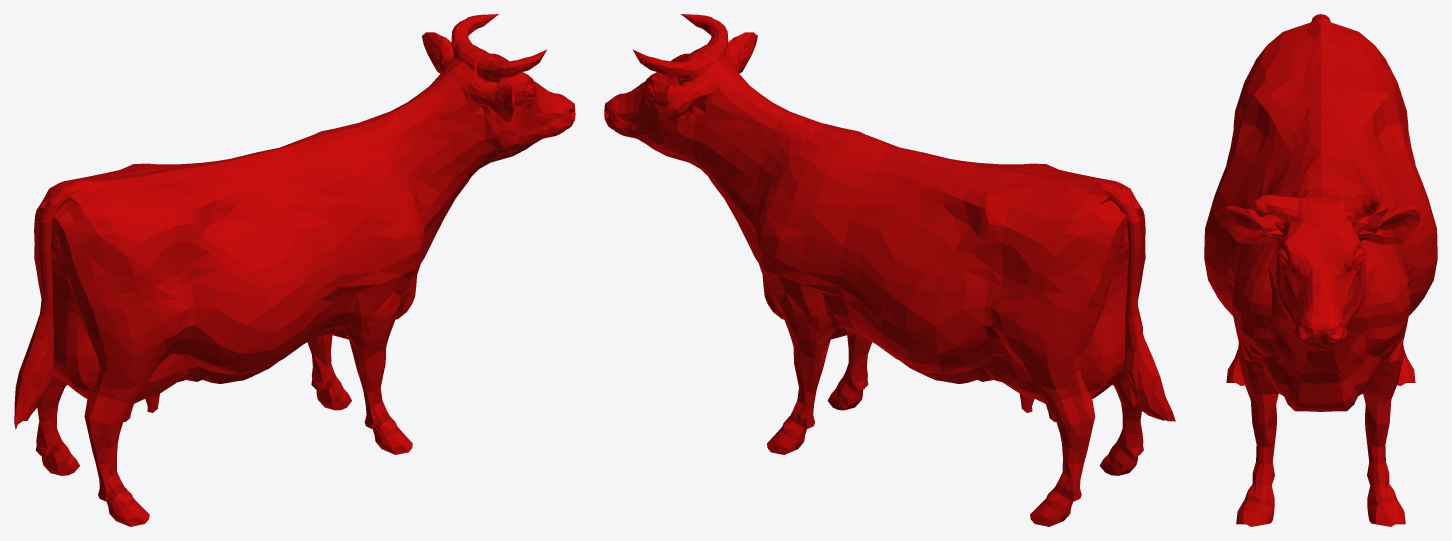
The model's file is cow1.obj.
3 views of the same model, side by side, from view 1: azimuth 30°, elevation 25°; view 2: azimuth 150°, elevation 25°; view 3: azimuth 270°, elevation 25° (orthographic). The views are drawn at different scales.
Bounding box in the file's own units: 10.44 × 6.4 × 3.4.
